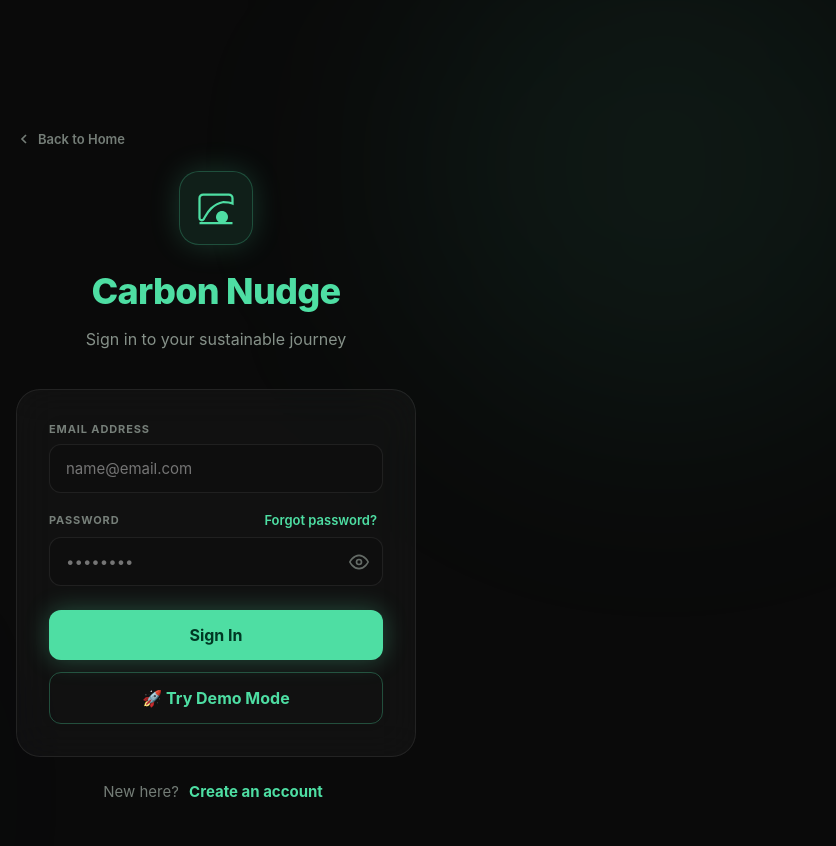
Test case: Login component › shows error when submitting empty form
The width and height of the screenshot is (836, 846).
What coordinates should you click on to do the following:
click the button "Sign In"
I would click on:
 (216, 635)
Its box is [49,610,383,660].
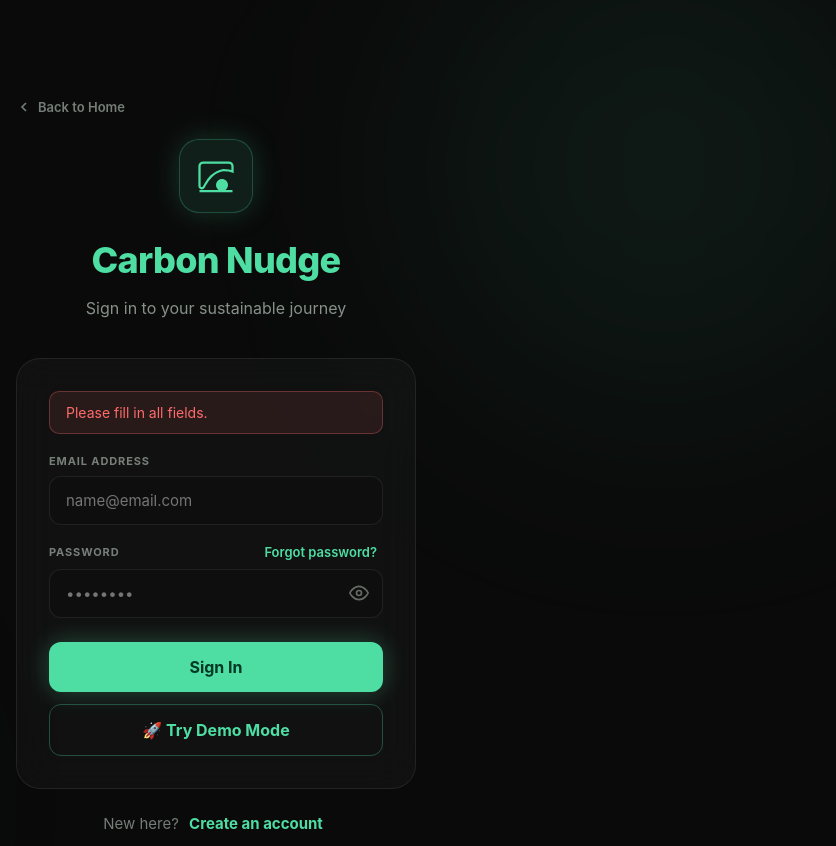
Now the message "Please fill in all fields." is shown, box [49,390,383,434]
